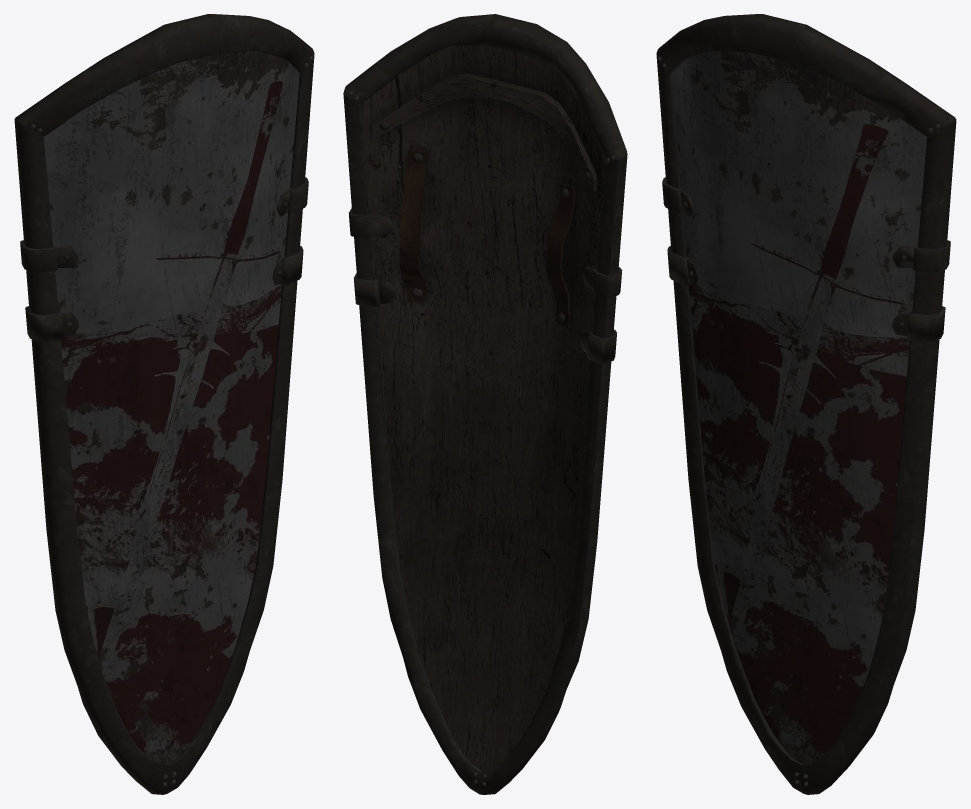
File: kite_shield.glb
3 renders of one model, left to right at view 1: azimuth 30°, elevation 25°; view 2: azimuth 150°, elevation 25°; view 3: azimuth 330°, elevation 25°, orthographic. The views are drawn at different scales.
Parts seen in each view (by area): view 1: kite_shield_body, kite_shield_metal_trim; view 2: kite_shield_body, kite_shield_metal_trim; view 3: kite_shield_body, kite_shield_metal_trim.
Boxes of the visible parts, x1=… form: kite_shield_body: x1=43, y1=51, x2=299, y2=764; kite_shield_metal_trim: x1=14, y1=14, x2=314, y2=794; kite_shield_body: x1=361, y1=45, x2=606, y2=770; kite_shield_metal_trim: x1=343, y1=14, x2=627, y2=794; kite_shield_body: x1=671, y1=51, x2=927, y2=763; kite_shield_metal_trim: x1=656, y1=14, x2=956, y2=794.
Size of the model in its own units: 0.5433 by 1.39 by 0.1347.
Materials: 2 (2 with a texture image).
